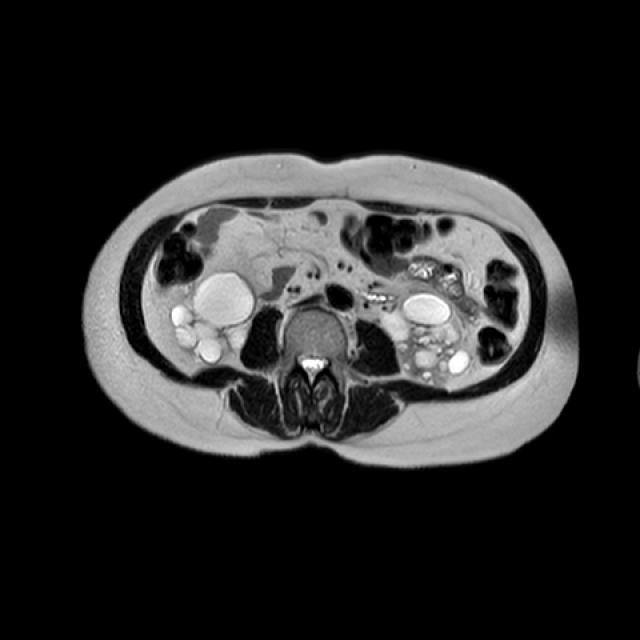sag: (172, 272, 258, 363)
sol: (384, 292, 473, 384)
